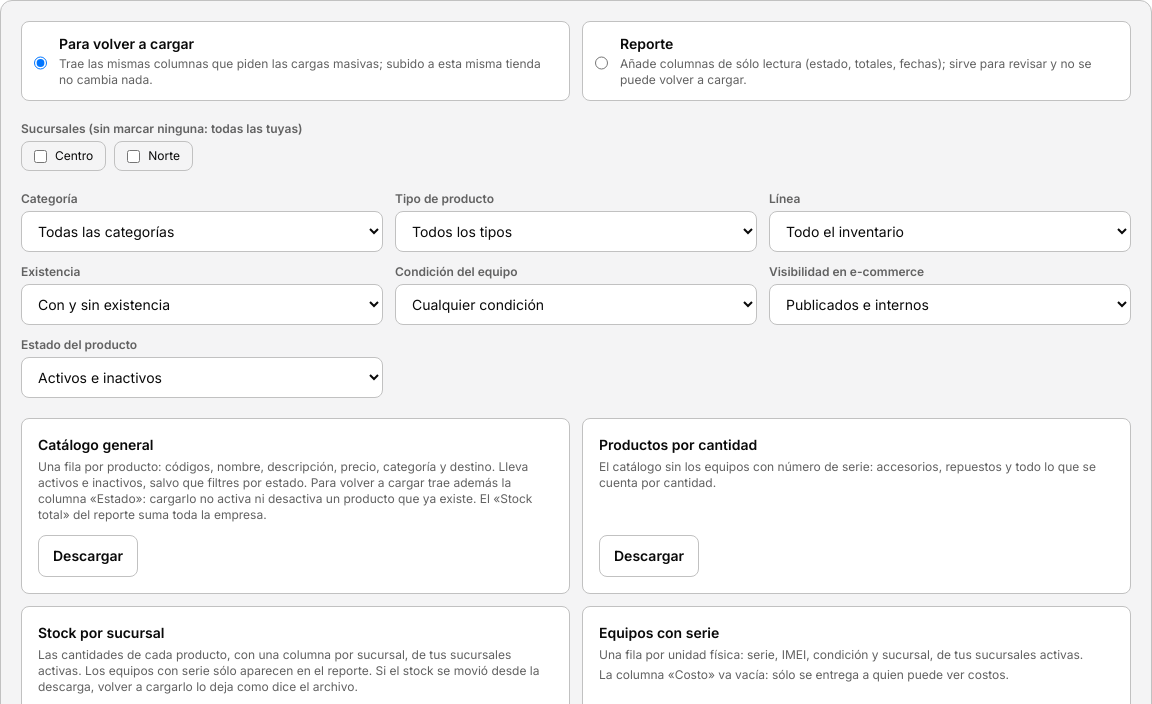
mientras descarga y si falla › lo que el servidor explica se muestra
Click the button "Descargar" below "Catálogo general" at (88, 556), box [38, 535, 138, 577]
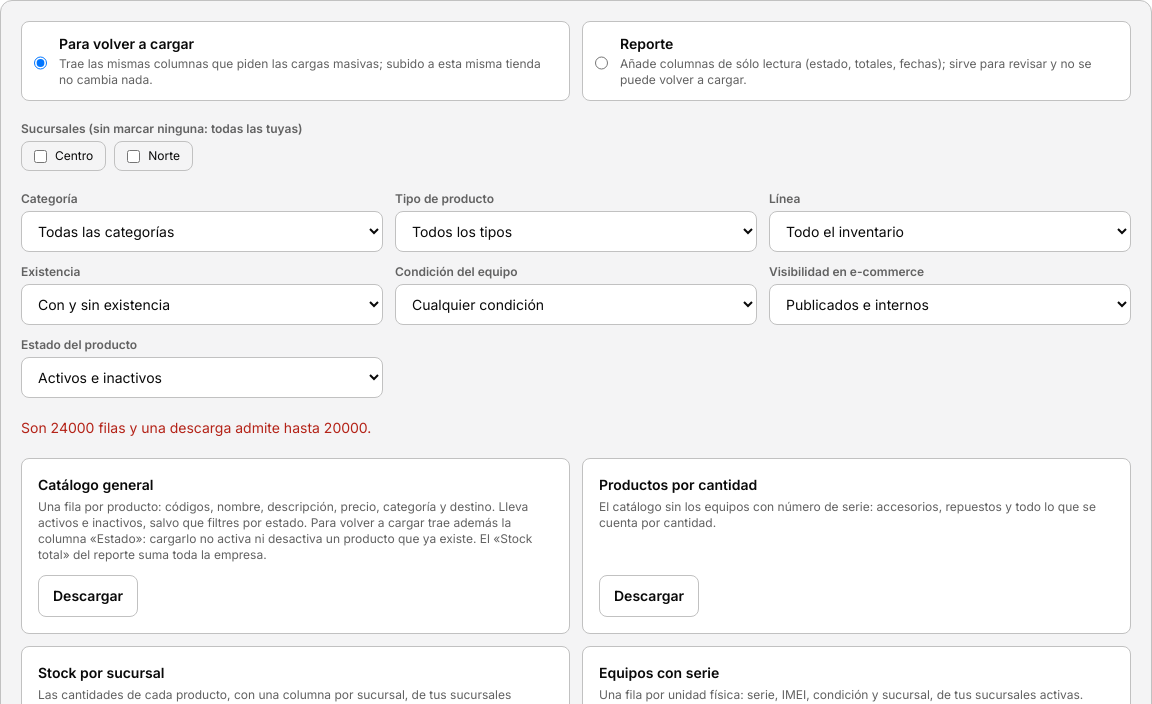
Result: the message shows "Son 24000 filas" at [21, 419, 371, 436]
Click the button "Descargar" below "Catálogo general" at (88, 596), box [38, 575, 138, 617]
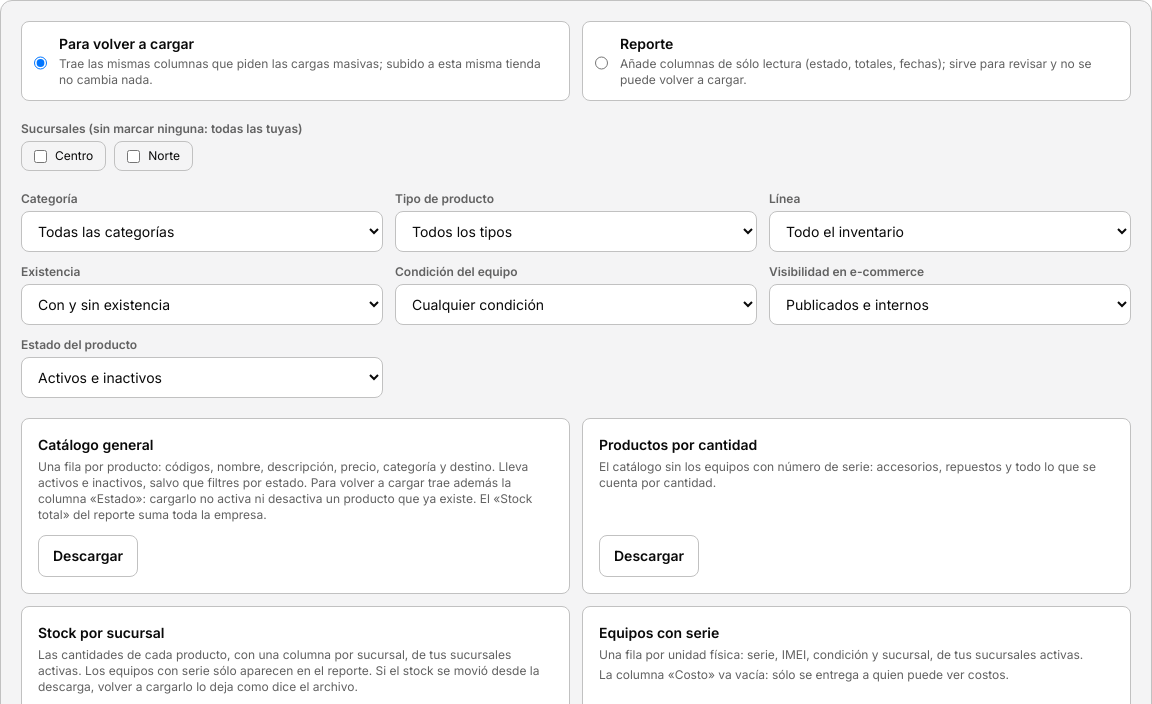
Result: the message "Son 24000 filas y una descarga admite hasta 20000." is gone
